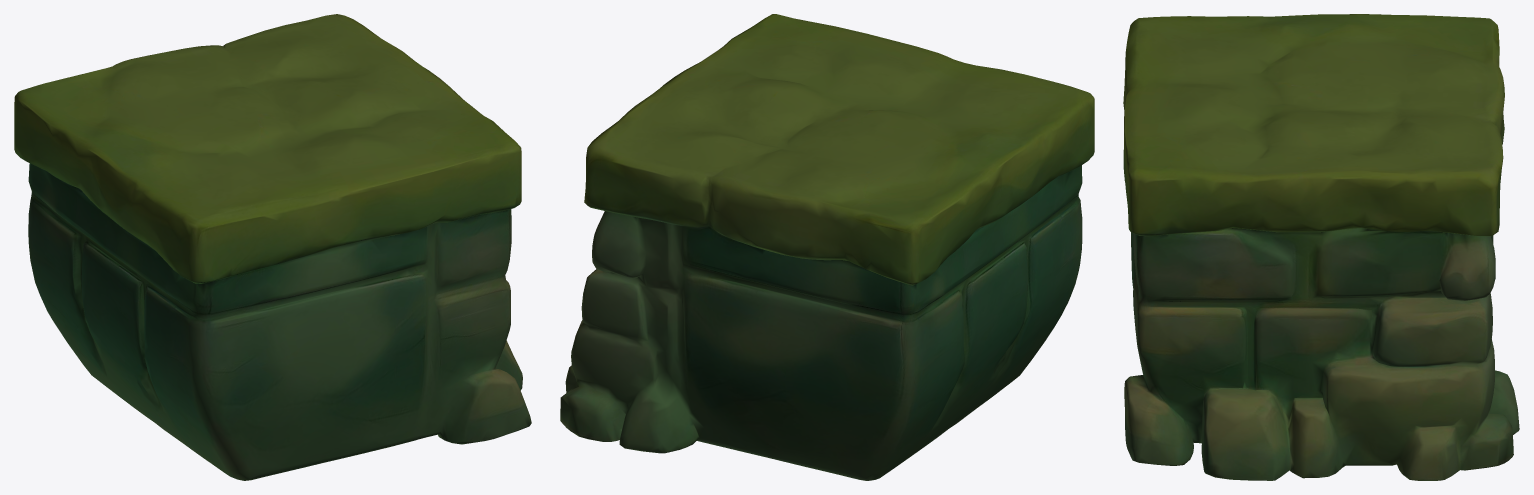
The model's file is cliff_straight_a.1k.glb.
3 views of the same model, side by side, from view 1: azimuth 30°, elevation 25°; view 2: azimuth 150°, elevation 25°; view 3: azimuth 270°, elevation 25° (orthographic).
Parts seen in each view (by area): view 1: tripo_node_2b2f104c-f8ab-48eb-9ef0-e4f2a17569d6; view 2: tripo_node_2b2f104c-f8ab-48eb-9ef0-e4f2a17569d6; view 3: tripo_node_2b2f104c-f8ab-48eb-9ef0-e4f2a17569d6.
Boxes of the visible parts, bbox=[...] form: tripo_node_2b2f104c-f8ab-48eb-9ef0-e4f2a17569d6: bbox=[14, 14, 531, 480]; tripo_node_2b2f104c-f8ab-48eb-9ef0-e4f2a17569d6: bbox=[560, 14, 1094, 480]; tripo_node_2b2f104c-f8ab-48eb-9ef0-e4f2a17569d6: bbox=[1123, 14, 1519, 480].
Size of the model in its own units: 1 by 0.74 by 0.9045.
1 material, 1 textured.
